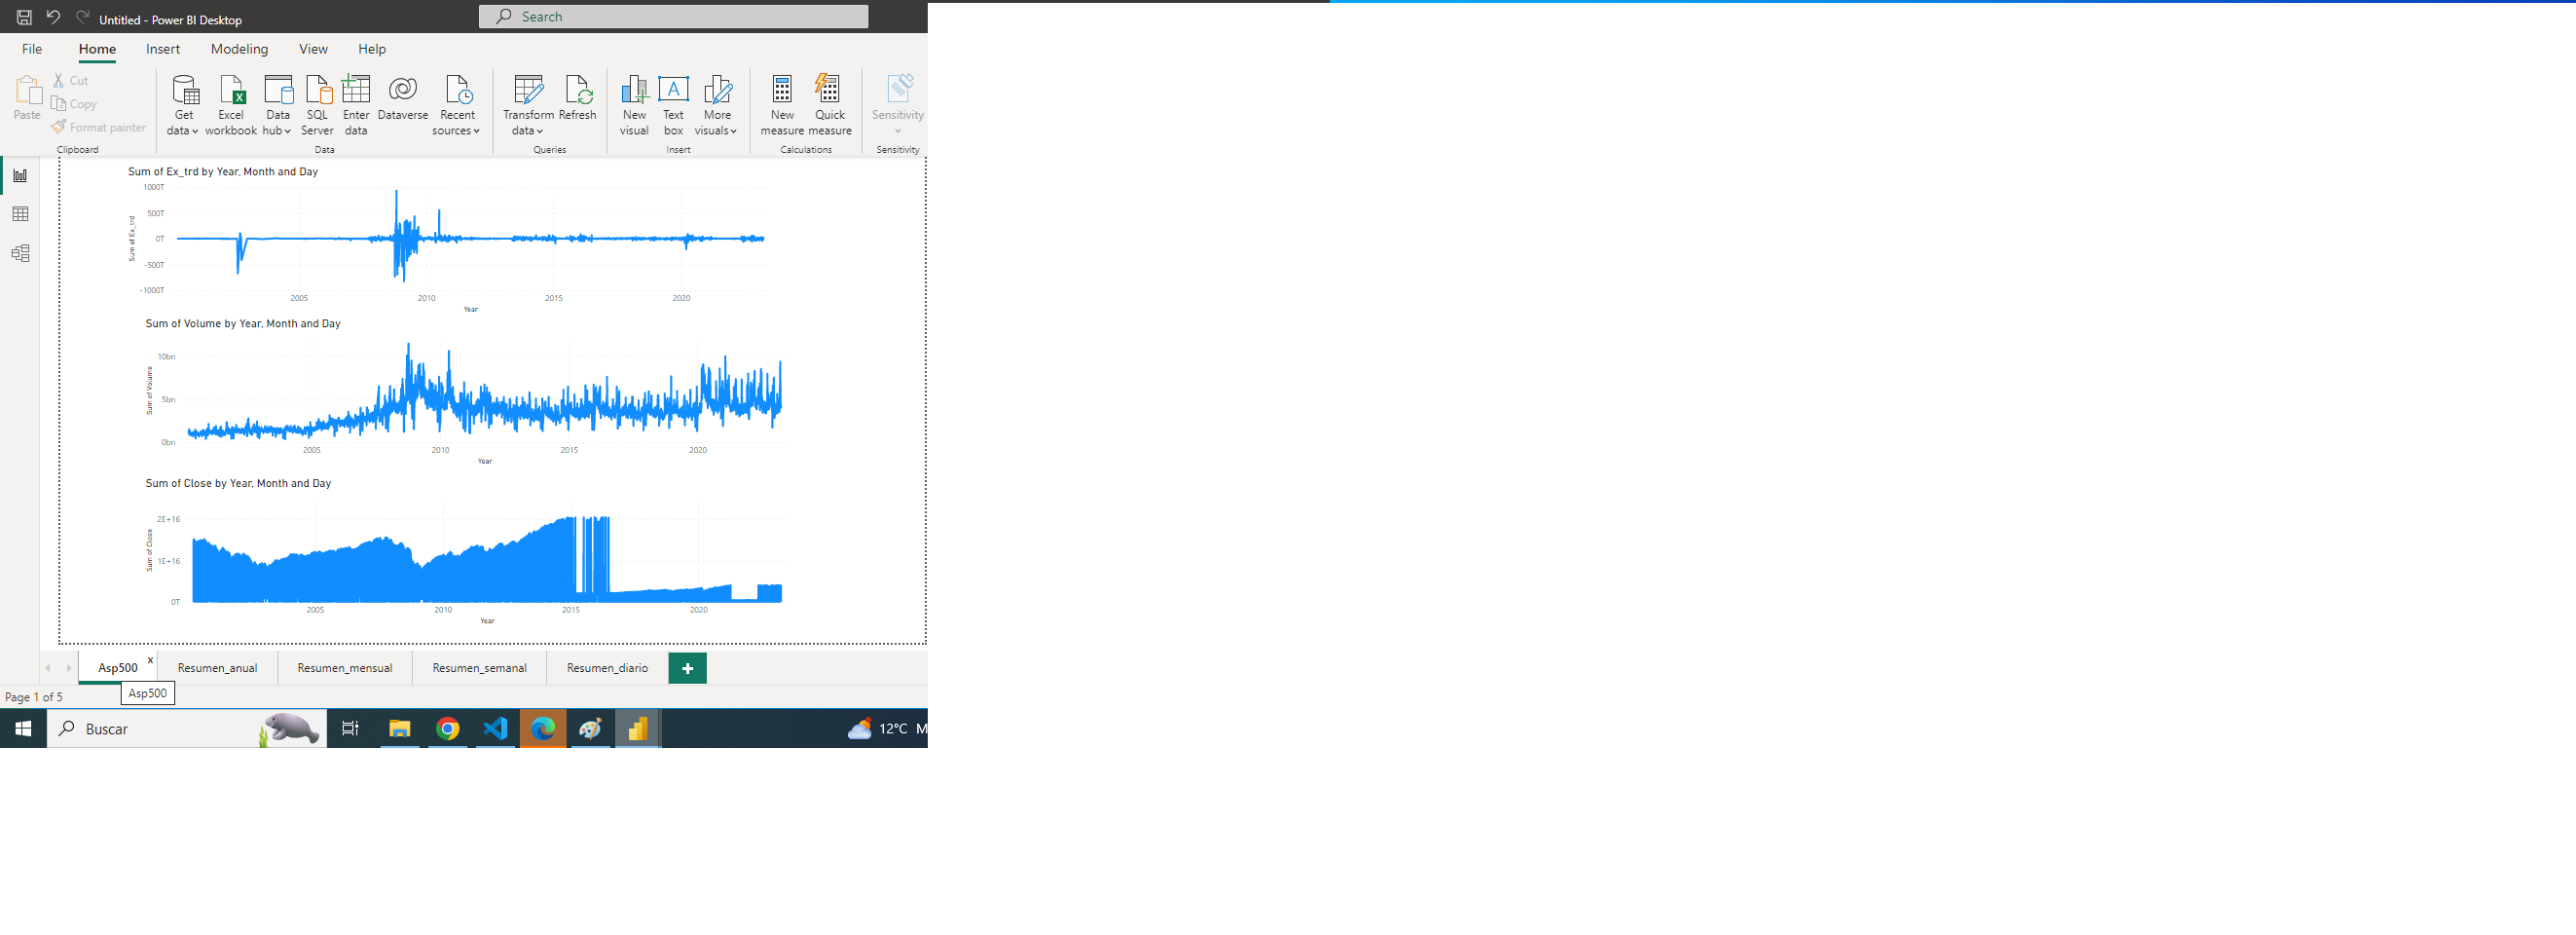

This screenshot's page, from the dashboard's own definition file:
{"tool":"powerbi","page":{"name":"Asp500","canvas":[1280,720],"ordinal":0},"visuals":[{"type":"lineChart","fields":{"Category":["Asp500.Date.Variation.Date Hierarchy.Year","Asp500.Date.Variation.Date Hierarchy.Month","Asp500.Date.Variation.Date Hierarchy.Day"],"Y":["Sum(Asp500.Close)"]},"box":[121,473.8,963.4,224.6],"z":0},{"type":"lineChart","fields":{"Category":["Asp500.Date.Variation.Date Hierarchy.Year","Asp500.Date.Variation.Date Hierarchy.Month","Asp500.Date.Variation.Date Hierarchy.Day"],"Y":["Sum(Asp500.Volume)"]},"box":[121,237.6,963.4,224.6],"z":1},{"type":"lineChart","fields":{"Category":["Asp500.Date.Variation.Date Hierarchy.Year","Asp500.Date.Variation.Date Hierarchy.Month","Asp500.Date.Variation.Date Hierarchy.Day"],"Y":["Sum(Asp500.Ex_trd)"]},"box":[95,13,963.4,224.6],"z":2}]}

Visuals, with their boxes on the page's 1280x720 design canvas (x1, y1, x2, y2). These are canvas units, not pixel positions in the 2576x935 screenshot, which may show the page scaled, cropped or inside an application window:
lineChart - Asp500.Date.Variation.Date Hierarchy.Year x Asp500.Date.Variation.Date Hierarchy.Month: <box>121,474,1084,698</box>
lineChart - Asp500.Date.Variation.Date Hierarchy.Year x Asp500.Date.Variation.Date Hierarchy.Month: <box>121,238,1084,462</box>
lineChart - Asp500.Date.Variation.Date Hierarchy.Year x Asp500.Date.Variation.Date Hierarchy.Month: <box>95,13,1058,238</box>
